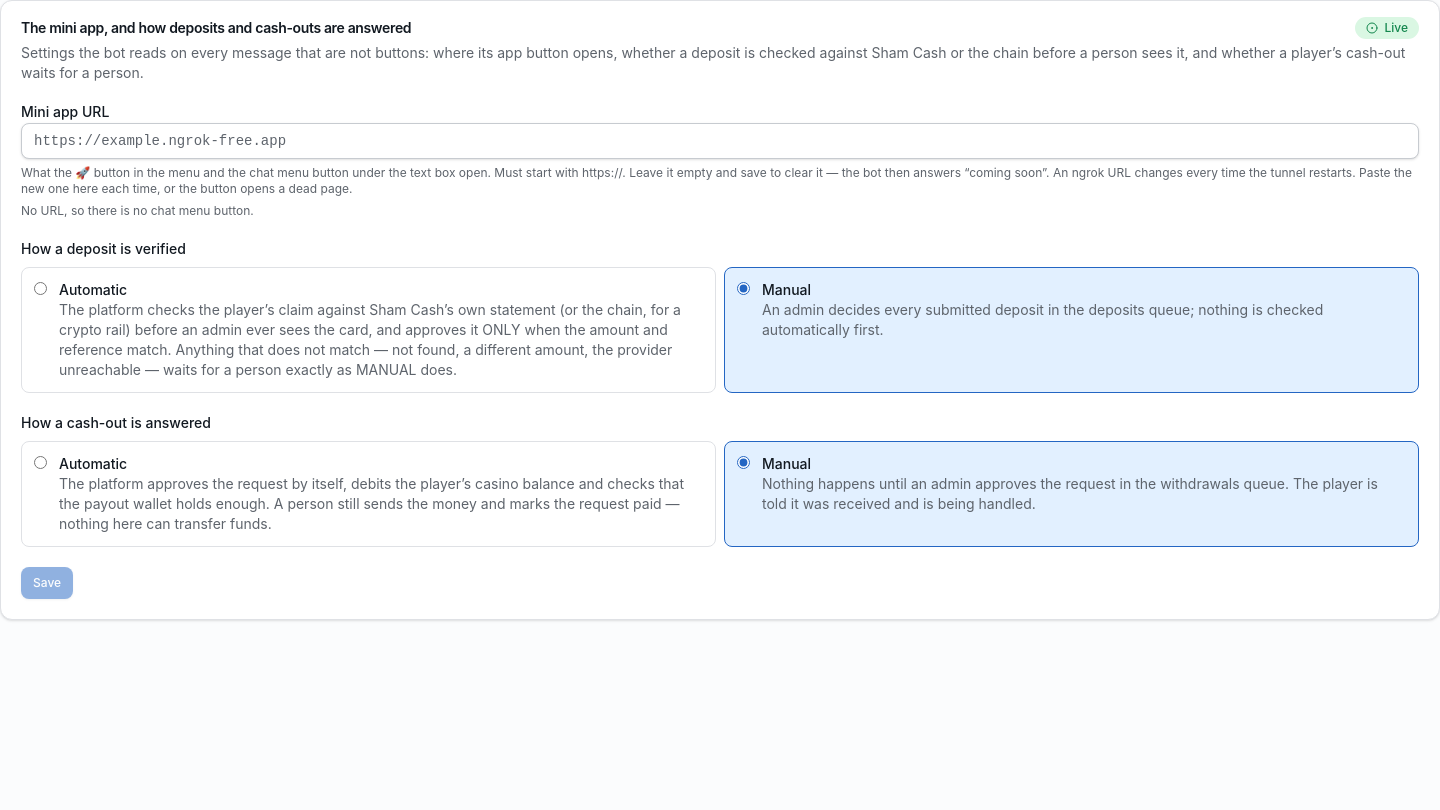
Test: editing › refuses a URL that is not https before asking the server
Click the field labelled "Mini app URL".
click(720, 141)  # box x1=21 y1=123 x2=1419 y2=159
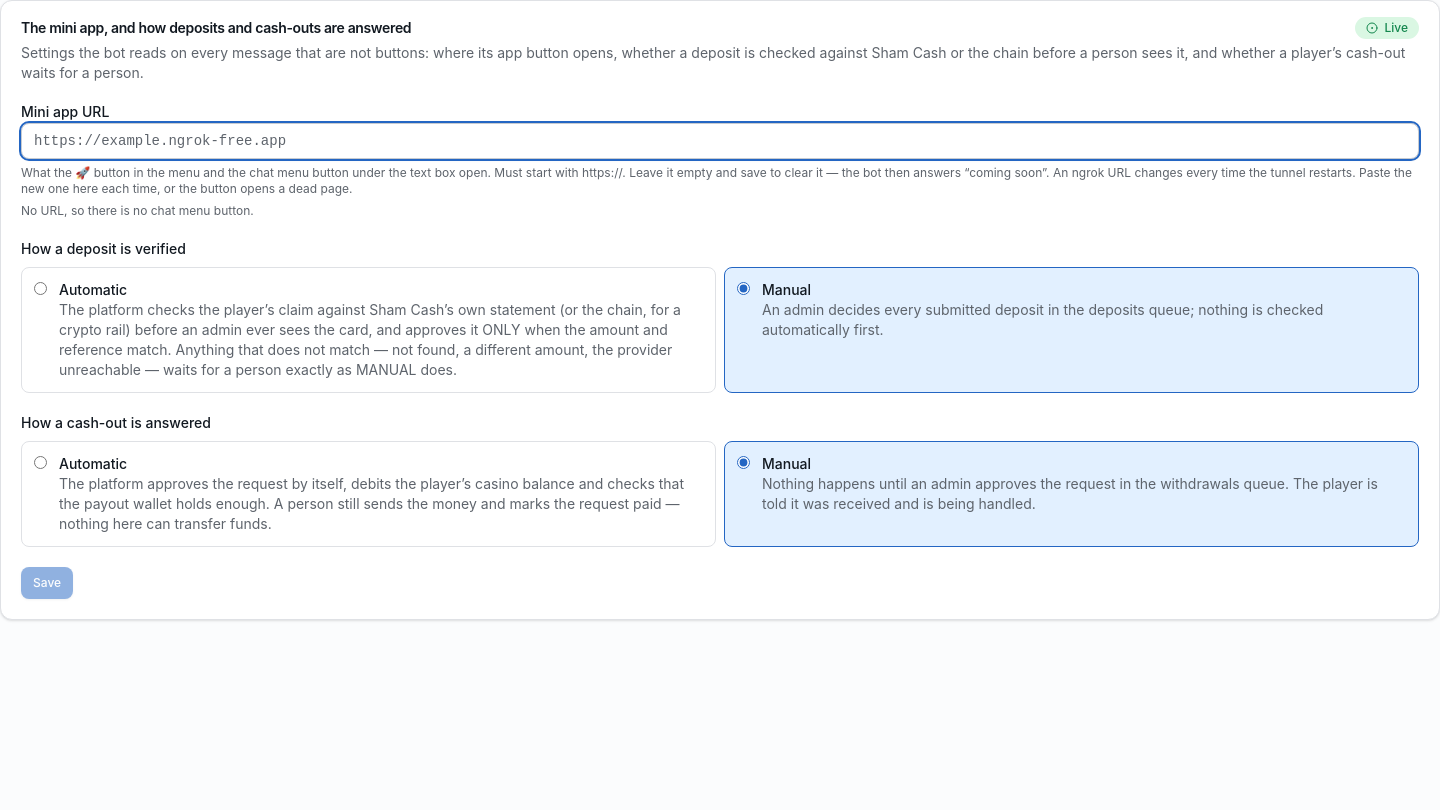
Type keys "http://abc123.ngrok-free.app"
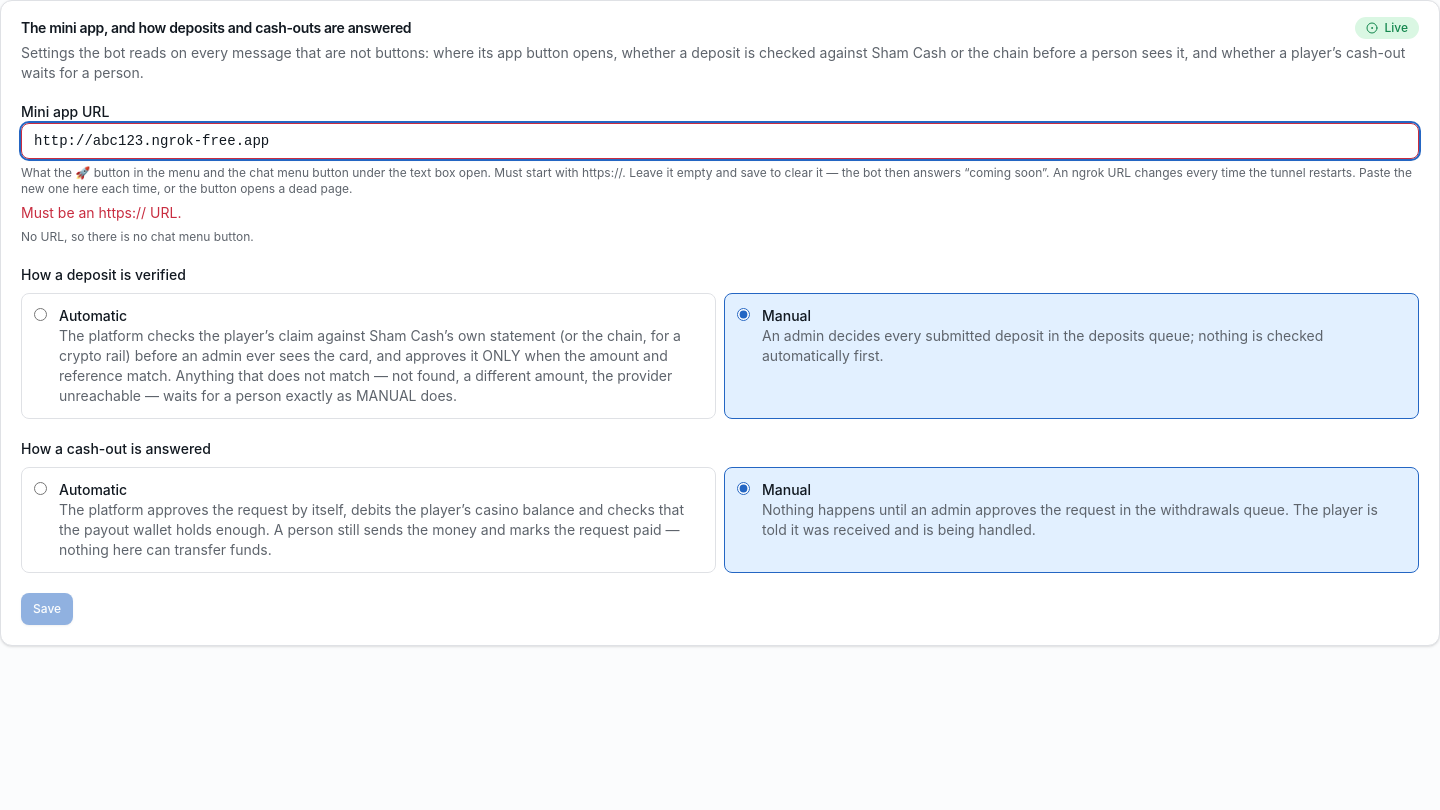
Expected: the button "Save" is disabled, x1=21 y1=593 x2=73 y2=625
Expected: the text "Must be an https:// URL." is shown, x1=21 y1=204 x2=181 y2=221
